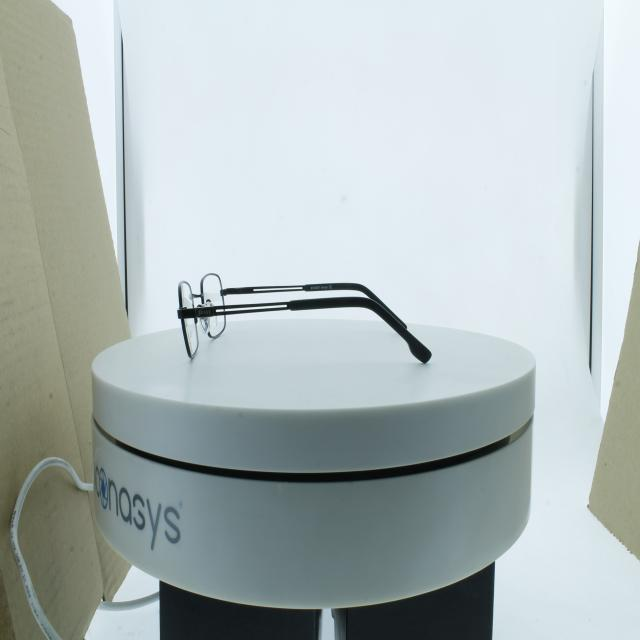Specs: (156, 211, 464, 380)
